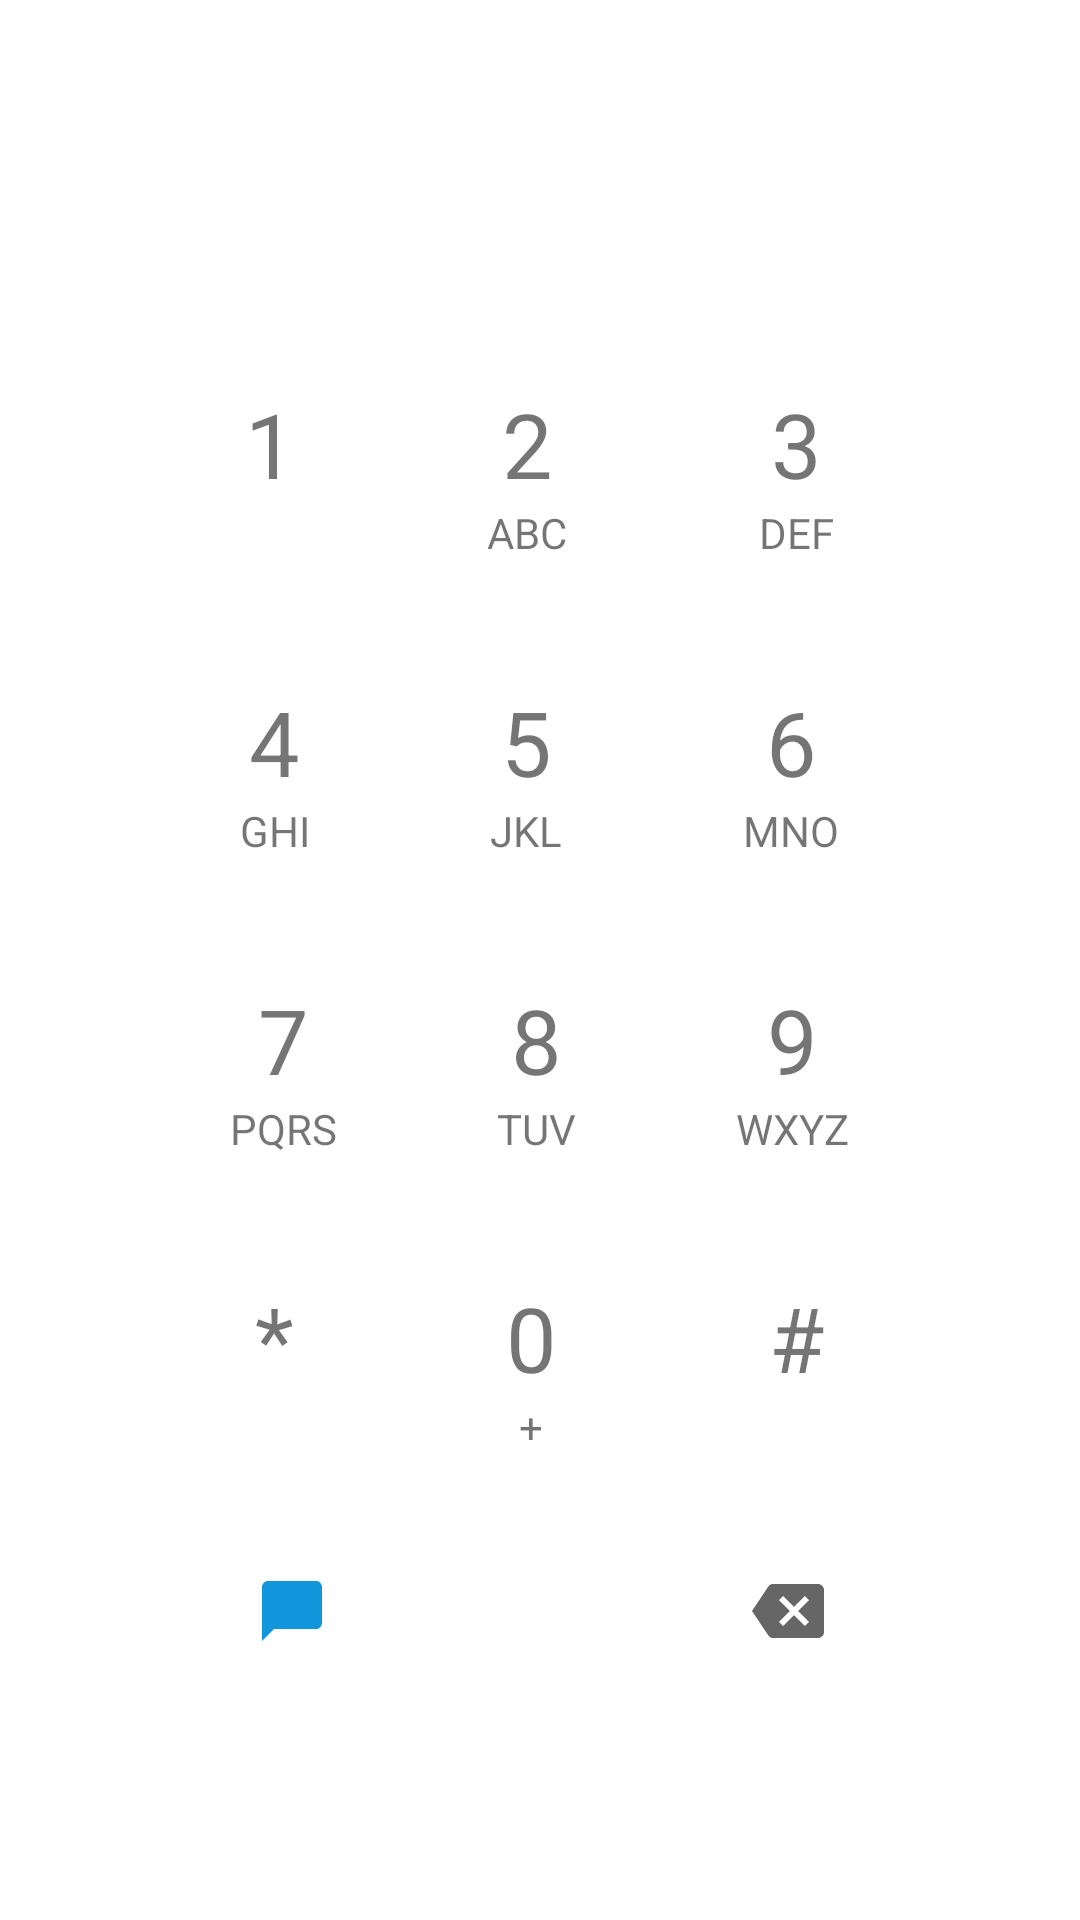

Point at icon controls on the screen. Image size 1080*1920, points as (x=x, y=y).
backspace: (x=788, y=1611)
chat: (x=292, y=1611)
